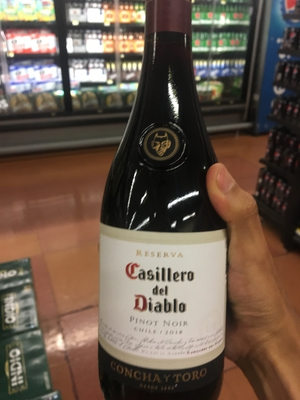casillero del diablo pinot noir: (91, 28, 237, 400)
